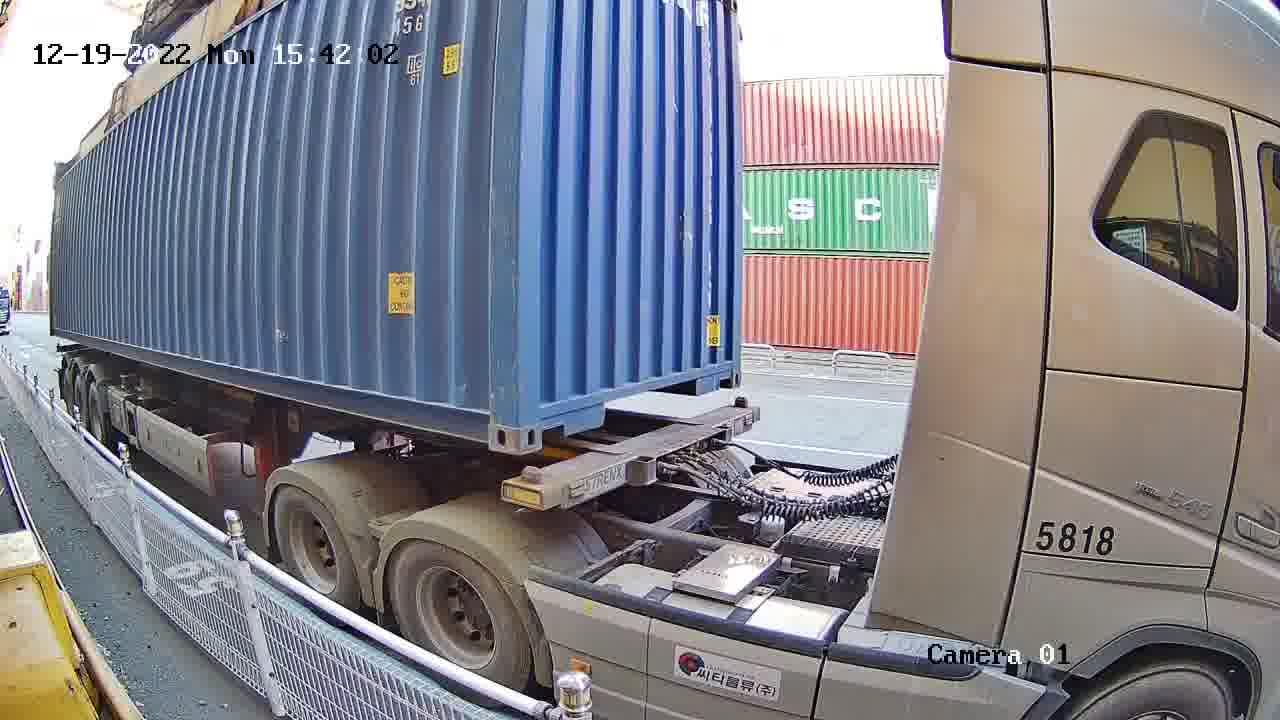Chassis: (504, 406, 758, 509)
Cone: (505, 463, 548, 506), (729, 392, 750, 414)
Hole_L: (519, 384, 566, 453)
Hole_R: (456, 387, 514, 454), (710, 344, 742, 392)
Tire: (393, 544, 518, 676), (274, 488, 351, 601)
